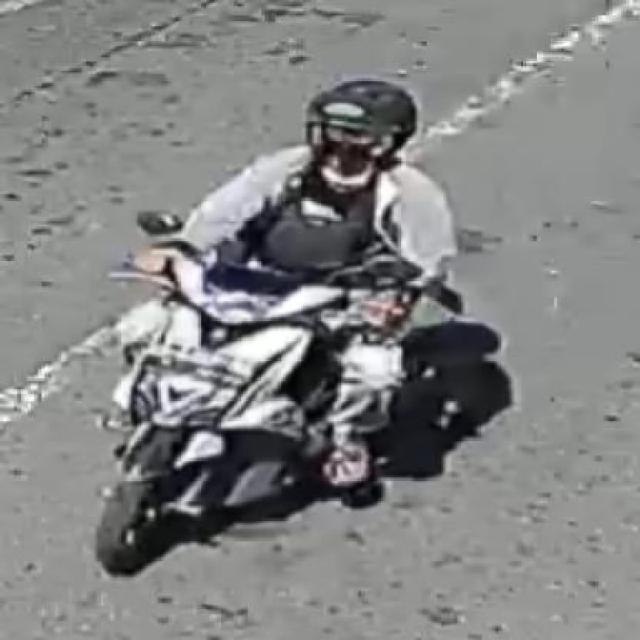Motorcycle: (98, 210, 423, 572)
